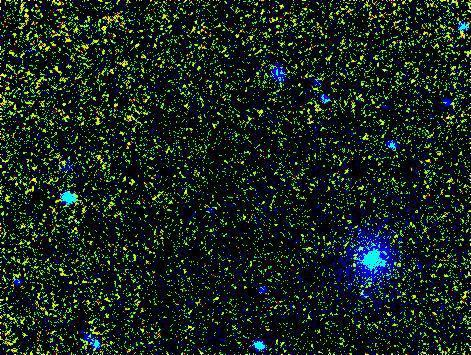star: (380, 250, 410, 280)
